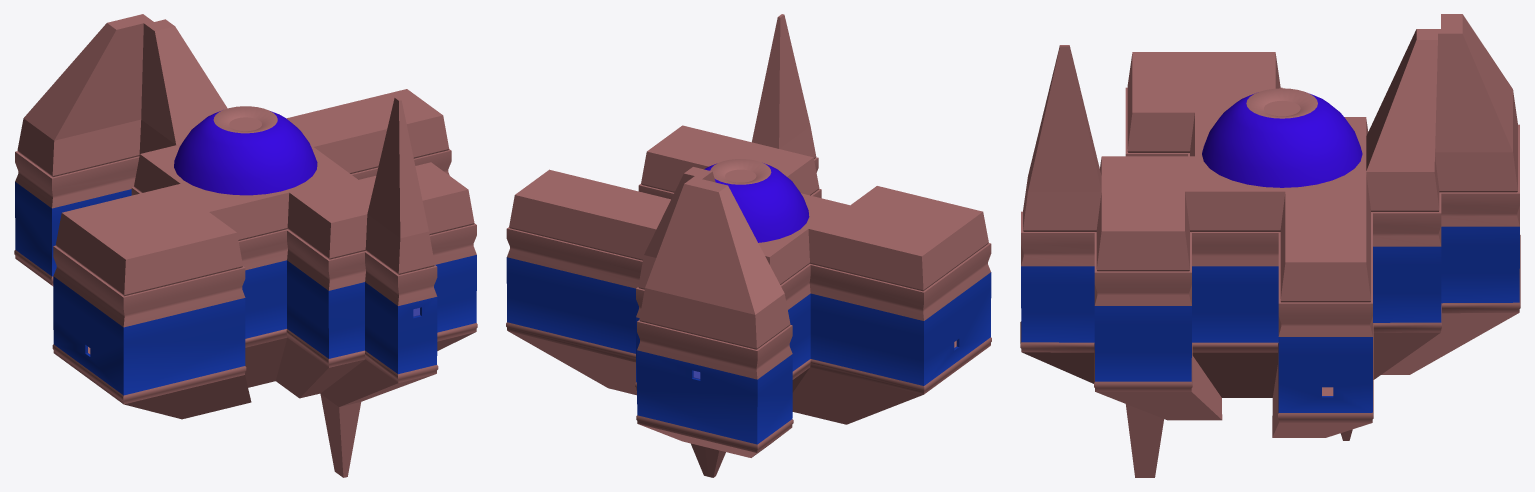
Rendered from SS Module Industrial 1.FBX.
The picture shows the model from 3 angles, left to right: view 1: azimuth 30°, elevation 25°; view 2: azimuth 150°, elevation 25°; view 3: azimuth 270°, elevation 25°; orthographic projection. The views are drawn at different scales.
Visible parts, largest first — view 1: Object013, Object014, Sphere001; view 2: Object013, Object014, Sphere001; view 3: Object013, Object014, Sphere001.
Boxes of the visible parts, box(x1,y1,x2,y2) form: Object013: box(14, 149, 477, 477); Object014: box(17, 14, 474, 296); Sphere001: box(174, 106, 317, 195); Object013: box(506, 157, 991, 477); Object014: box(509, 14, 988, 349); Sphere001: box(704, 159, 809, 242); Object013: box(1020, 87, 1520, 477); Object014: box(1023, 14, 1517, 302); Sphere001: box(1202, 88, 1362, 187).
Size of the model in its own units: 185 by 176 by 180.
